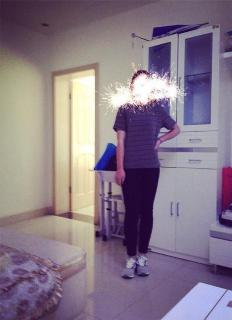short sleeve top: (113, 99, 177, 169)
trousers: (121, 163, 160, 256)
